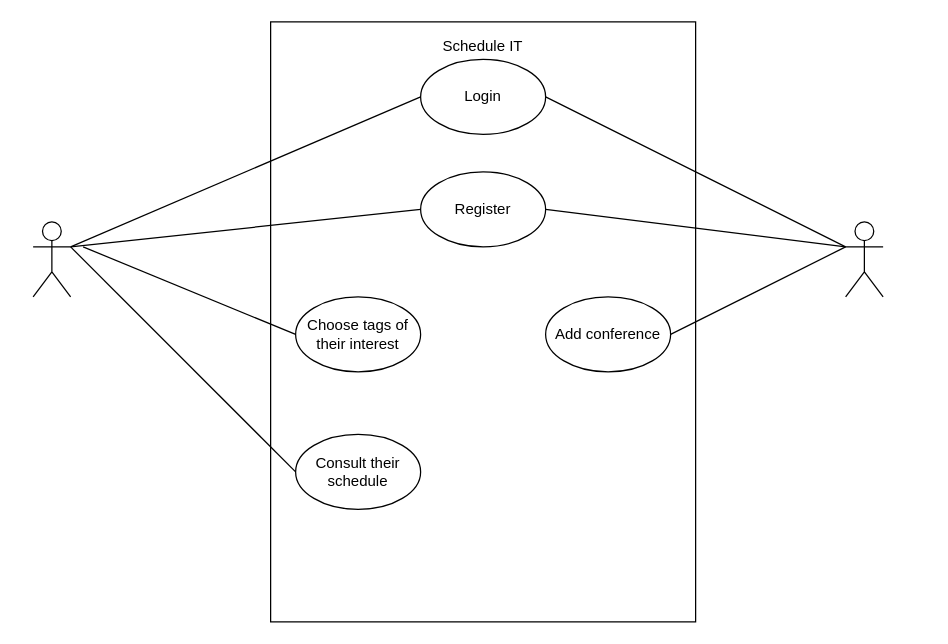
Some shapes in this 948 by 644 pixel diagram are drawn without their labels. Here are the shapes that lost their labels. From the top down, the box of each, then its label:
(32, 221, 71, 297): Attendee
(844, 221, 883, 297): Conference Admin
